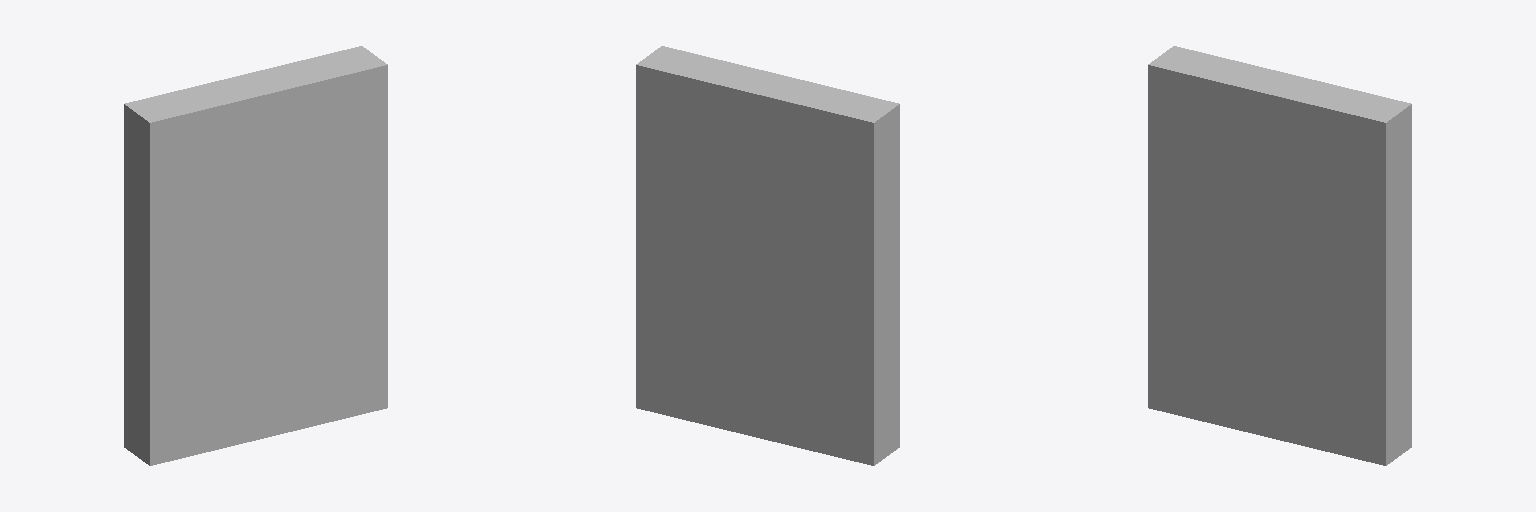
File: ExitDoor.obj
3 renders of one model, left to right at view 1: azimuth 30°, elevation 25°; view 2: azimuth 150°, elevation 25°; view 3: azimuth 330°, elevation 25°, orthographic.
Visible parts, largest first — view 1: pCube2; view 2: pCube2; view 3: pCube2.
Boxes of the visible parts, box(x1,y1,x2,y2) form: pCube2: box(124, 46, 387, 465); pCube2: box(636, 46, 899, 465); pCube2: box(1148, 46, 1411, 465).
Bounding box in the file's own units: 2.25 × 3.1 × 0.4274.